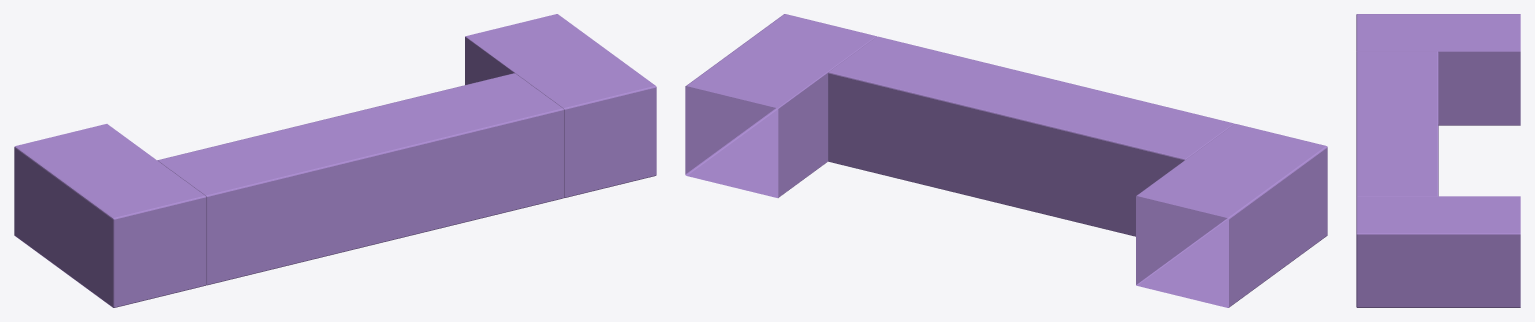
3 renders of one model, left to right at view 1: azimuth 30°, elevation 25°; view 2: azimuth 150°, elevation 25°; view 3: azimuth 270°, elevation 25°, orthographic. The views are drawn at different scales.
Parts seen in each view (by area): view 1: Object16840; view 2: Object16840; view 3: Object16840.
Boxes of the visible parts, <box> form: Object16840: <box>14,14,656,307</box>; Object16840: <box>685,14,1327,307</box>; Object16840: <box>1356,14,1520,307</box>.
Bounding box in the file's own units: 7.6 × 1.2 × 2.4.
